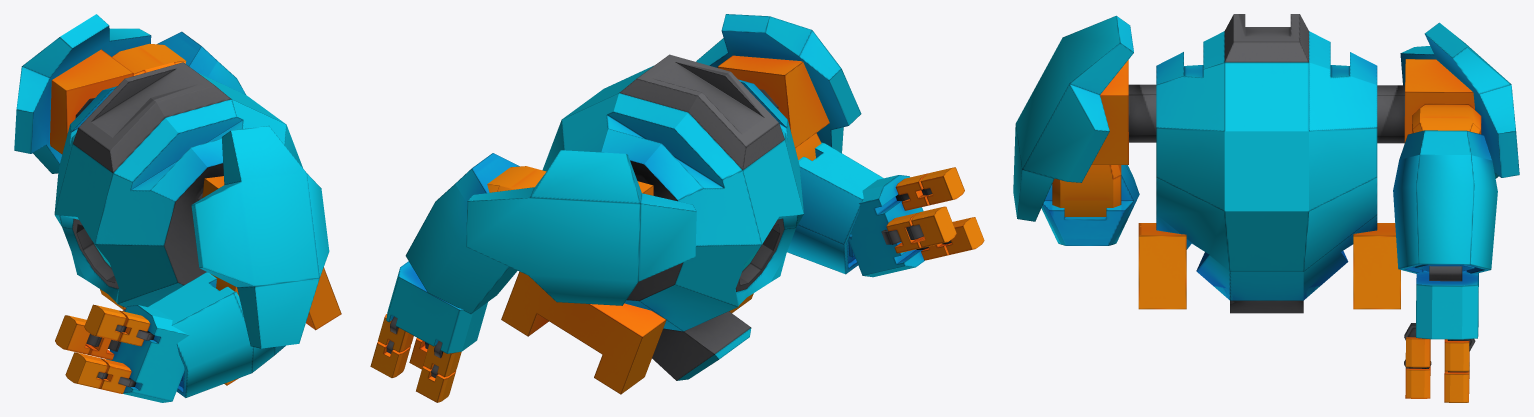
The model's file is Body_Running0.obj.
The picture shows the model from 3 angles, left to right: view 1: azimuth 30°, elevation 25°; view 2: azimuth 150°, elevation 25°; view 3: azimuth 270°, elevation 25°; orthographic projection. The views are drawn at different scales.
Parts seen in each view (by area): view 1: Plane001, Object006, Object002, Object008, Object007, Object003; view 2: Plane001, Object002, Object006, Object008, Object003, Object004, Object007; view 3: Plane001, Object006, Object003, Object002, Object004, Object007, Object005, Object001.
Part boxes in pixels (bbox=[...]): Plane001: bbox=[54, 62, 341, 385]; Object006: bbox=[191, 126, 329, 348]; Object002: bbox=[14, 14, 186, 173]; Object008: bbox=[55, 304, 188, 402]; Object007: bbox=[148, 272, 285, 397]; Object003: bbox=[157, 31, 245, 94]; Plane001: bbox=[501, 54, 803, 394]; Object002: bbox=[466, 150, 696, 305]; Object006: bbox=[696, 14, 861, 160]; Object008: bbox=[848, 167, 984, 277]; Object003: bbox=[405, 153, 519, 313]; Object004: bbox=[370, 261, 487, 402]; Object007: bbox=[787, 142, 883, 274]; Plane001: bbox=[1138, 14, 1400, 313]; Object006: bbox=[1013, 15, 1133, 221]; Object003: bbox=[1393, 130, 1497, 273]; Object002: bbox=[1400, 22, 1519, 178]; Object004: bbox=[1404, 266, 1478, 402]; Object007: bbox=[1041, 165, 1139, 245]; Object005: bbox=[1128, 84, 1156, 142]; Object001: bbox=[1377, 85, 1404, 143].
Bounding box in the file's own units: 172 × 118 × 182.
